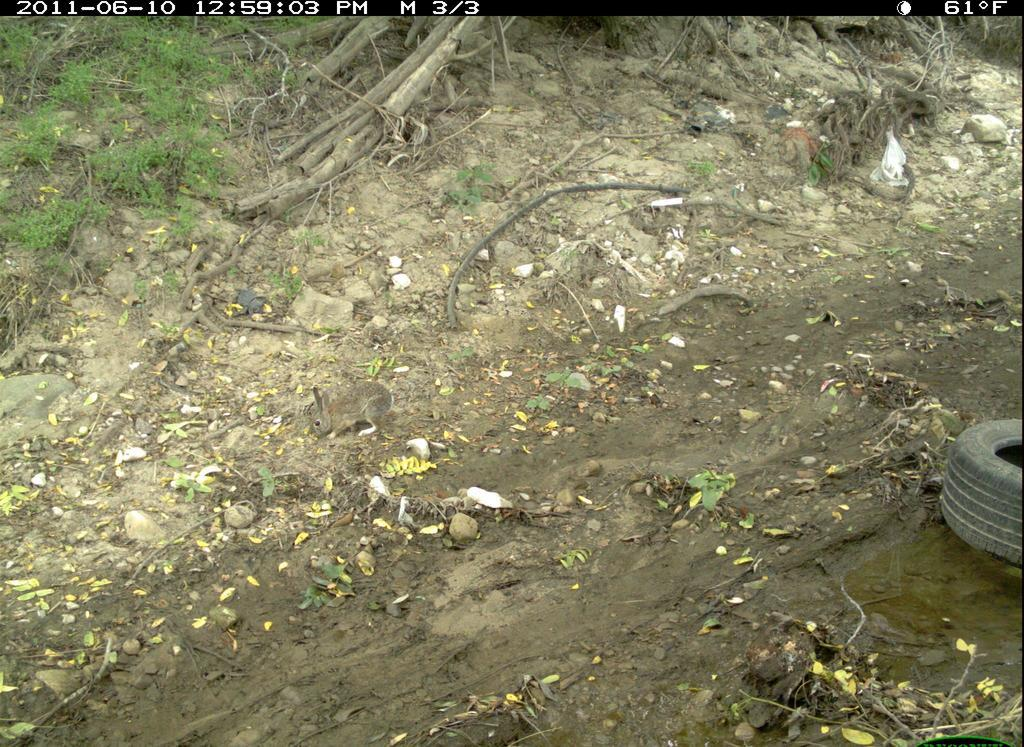rabbit: (308, 381, 396, 438)
